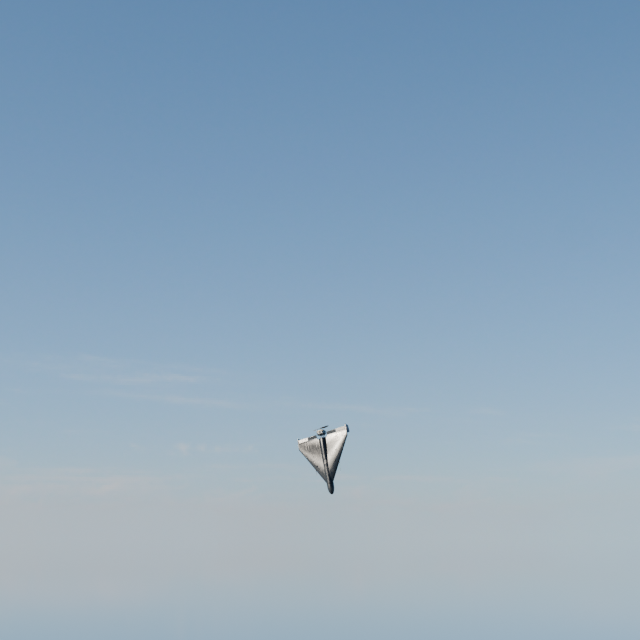shahed: (298, 424, 350, 495)
